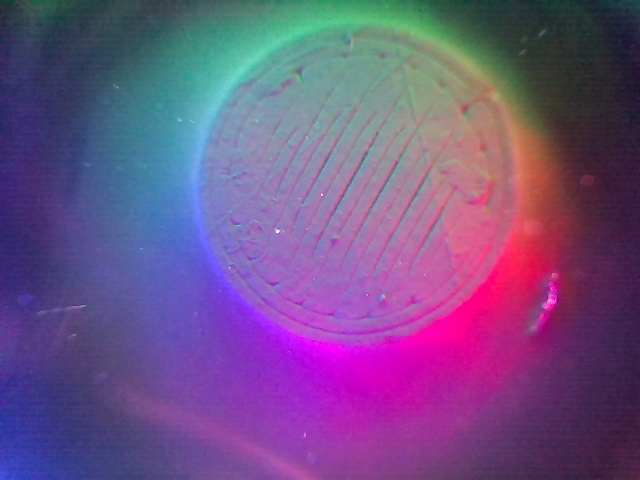contact: (198, 26, 514, 346)
